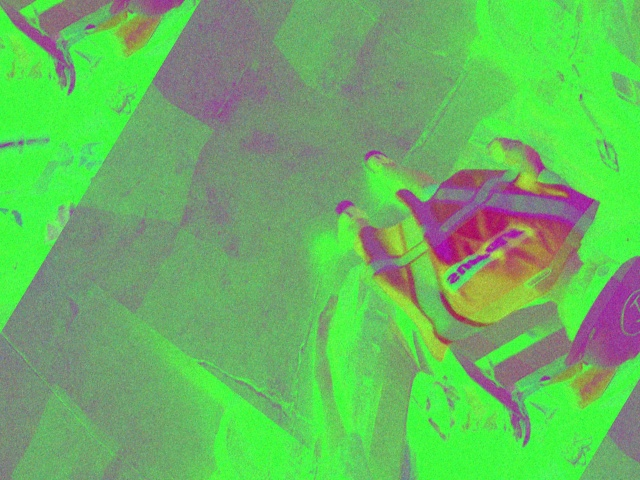one: (613, 282, 639, 340)
